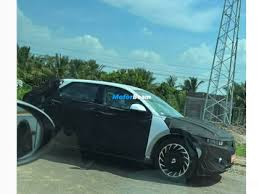Honda Ioniq: (59, 75, 240, 186)
